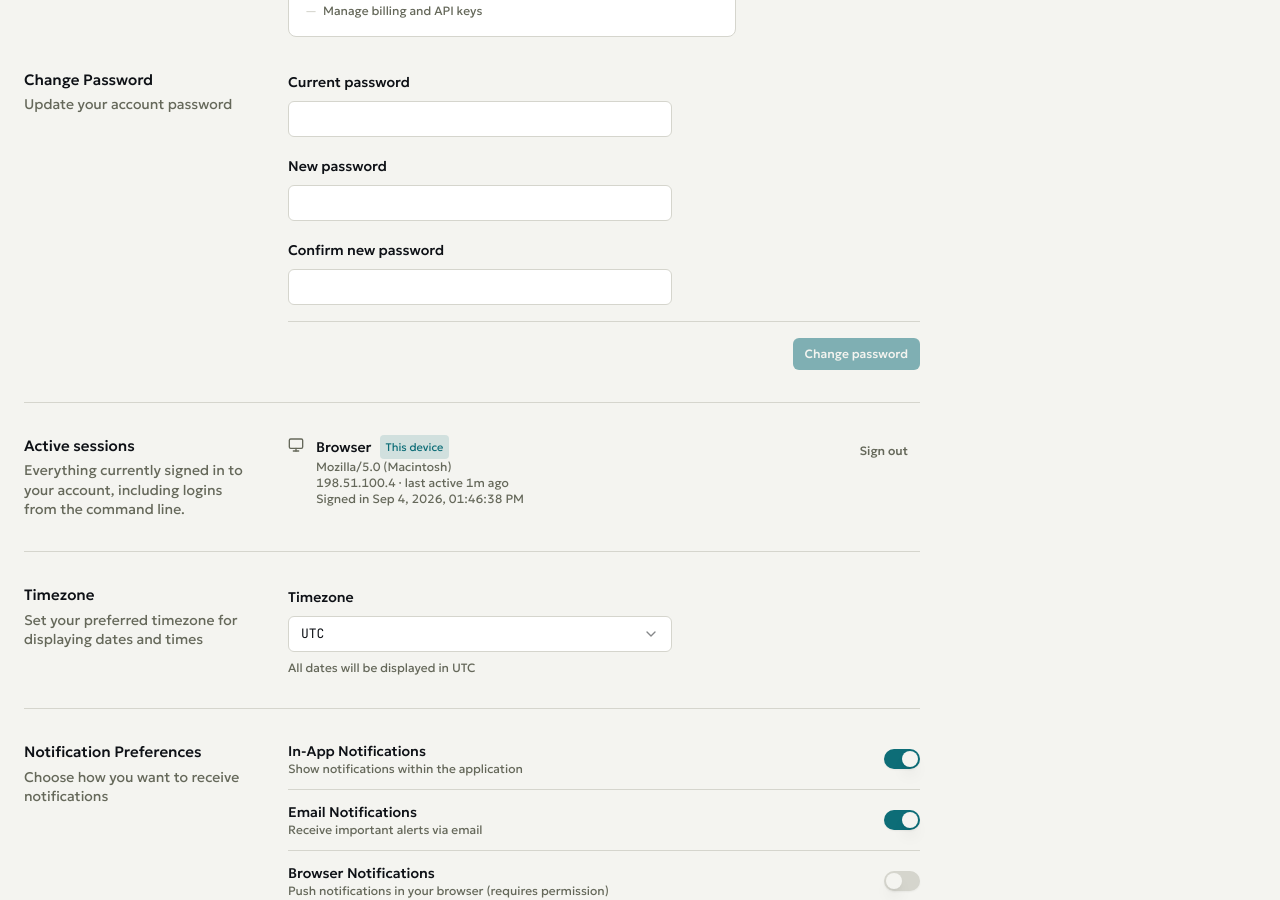
SettingsPage — active sessions › warns before signing out the device you are using
(page scrolled)
Click the button "Sign out".
click(884, 451)  # box [848,435,920,467]
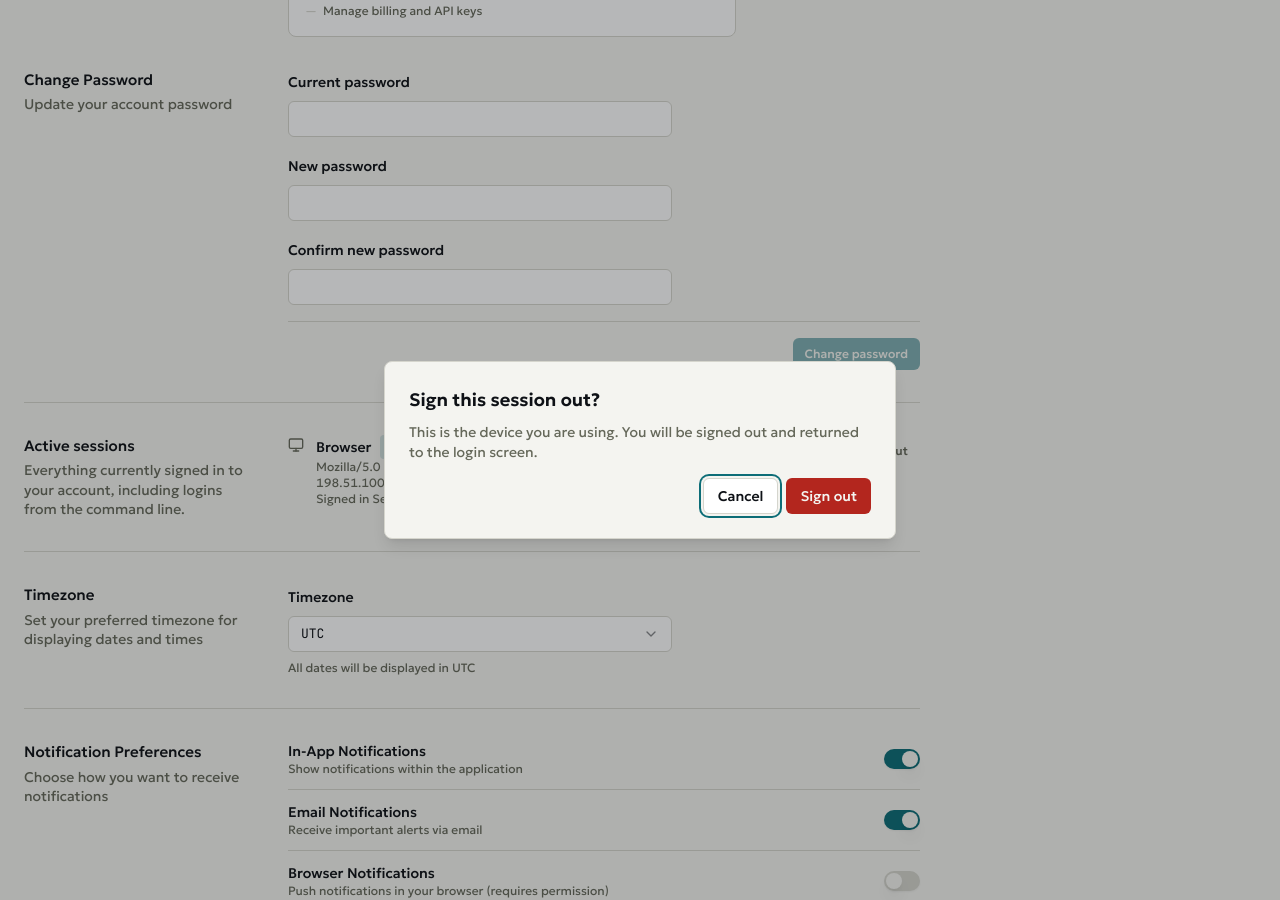
Check: the text "This is the device you are using" is shown, box [409,423,859,461]
